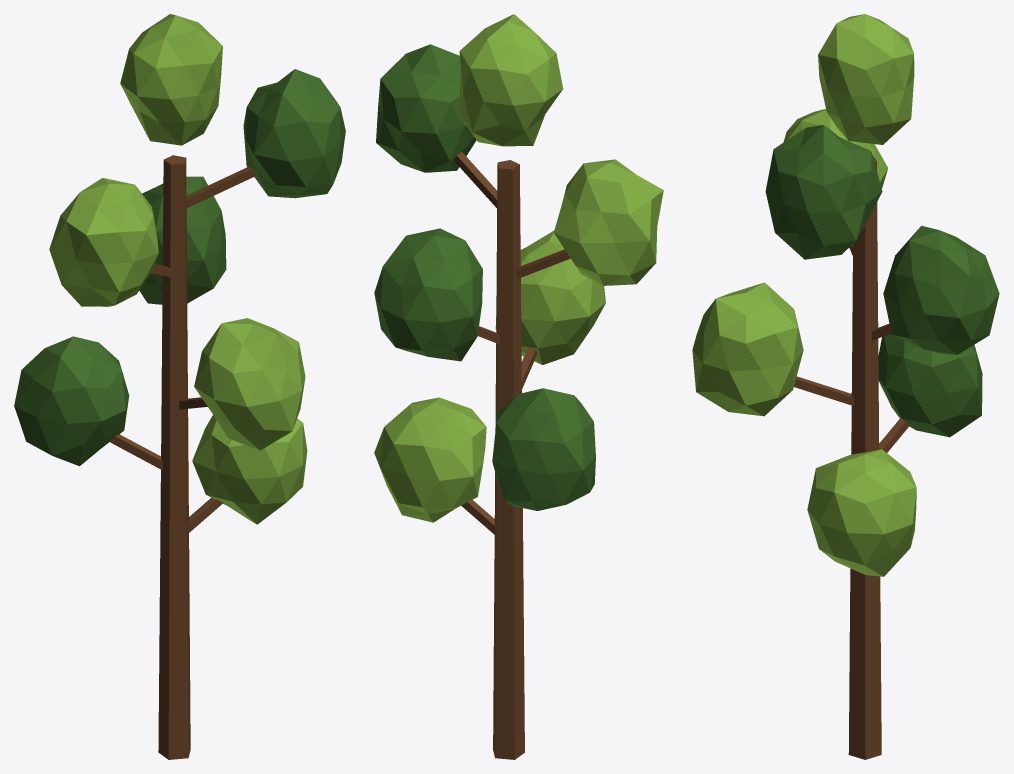
File: Tree_Sapling_B.fbx
3 views of the same model, side by side, from view 1: azimuth 30°, elevation 25°; view 2: azimuth 150°, elevation 25°; view 3: azimuth 270°, elevation 25° (orthographic).
Parts seen in each view (by area): view 1: Tree_Sapling_B; view 2: Tree_Sapling_B; view 3: Tree_Sapling_B.
Boxes of the visible parts, x1=… form: Tree_Sapling_B: x1=14, y1=14, x2=345, y2=759; Tree_Sapling_B: x1=374, y1=14, x2=663, y2=759; Tree_Sapling_B: x1=692, y1=14, x2=999, y2=759.
Size of the model in its own units: 0.9268 by 2.35 by 0.8865.
